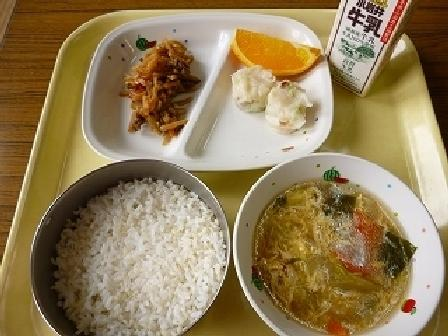Citrus: (226, 16, 317, 79)
Milk: (320, 0, 421, 90)
Rice: (29, 160, 230, 328)
Soups: (237, 152, 430, 330)
manty: (230, 66, 314, 137)
vegetable based cooked food: (107, 25, 211, 136)
